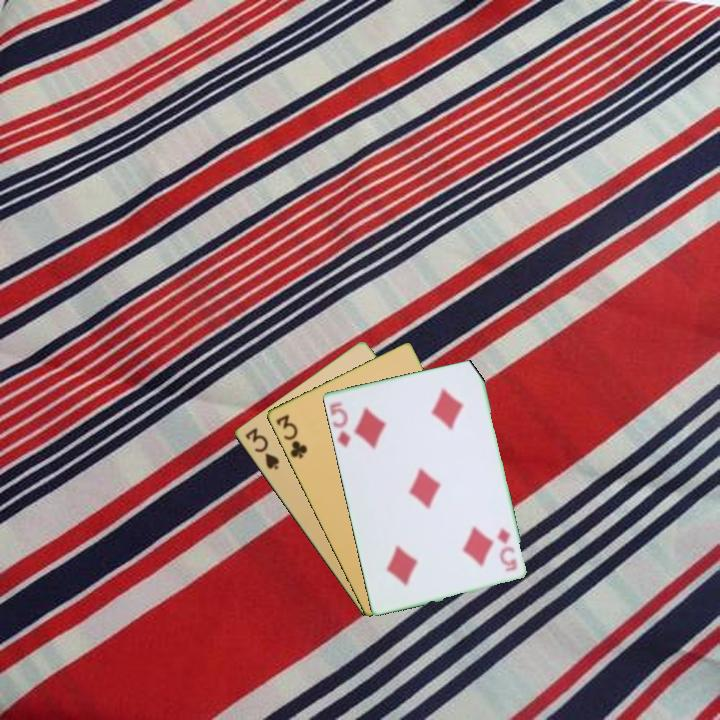3c: (272, 410, 310, 462)
3s: (241, 424, 282, 472)
5d: (325, 399, 353, 450), (493, 523, 520, 574)
